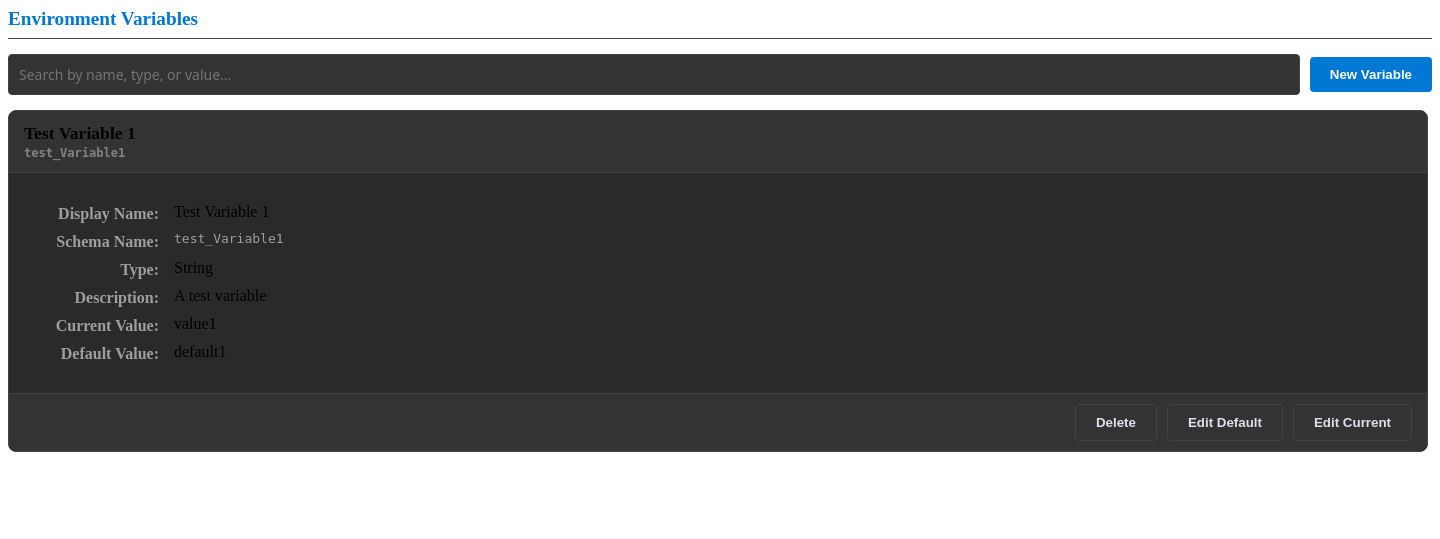
Scenario: EnvVarsTab › delegated event handling extended › should handle edit-default button via delegation
Click the button with class "edit-default-btn".
click(1225, 422)  # box 1167,404 -> 1283,441
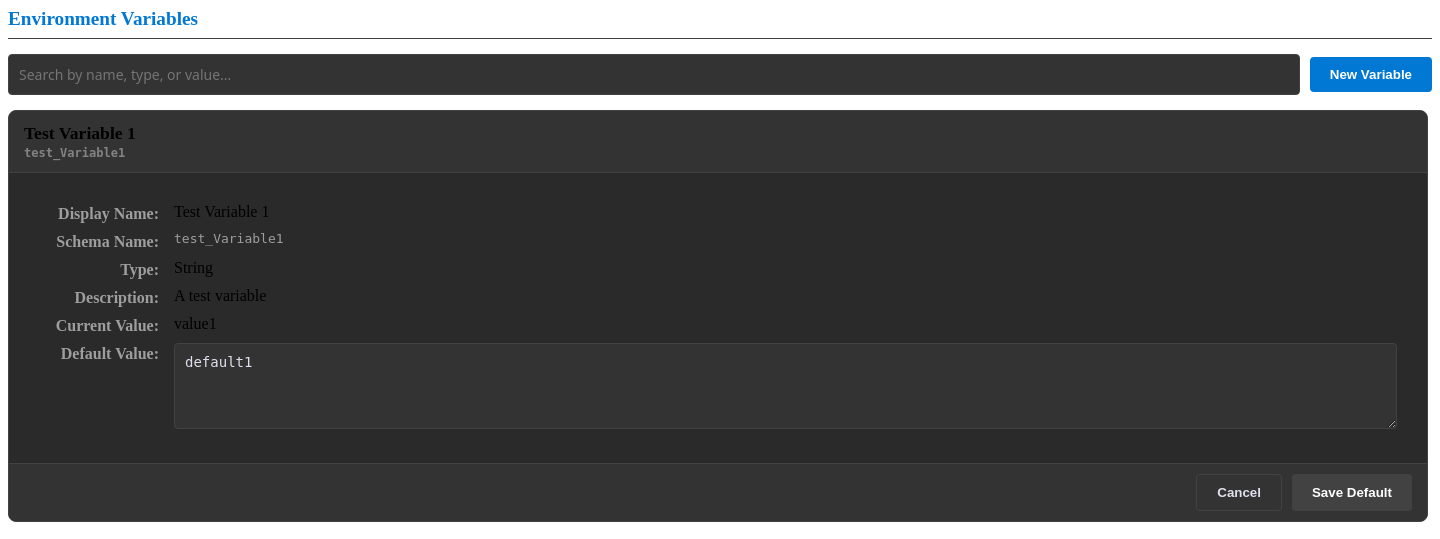
Result: the text box with class "env-var-default-edit-area" is shown at 174,343 -> 1397,429
